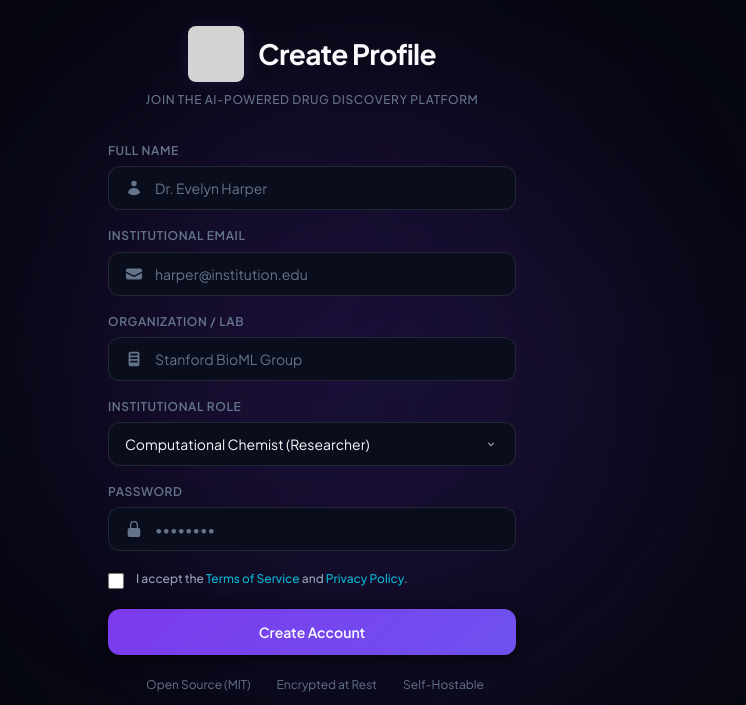
SignupPage › toggles password visibility
This screenshot has width=746, height=705.
In the password field labelled "Password": {"x": 312, "y": 529} [109,508,515,550], type "supersecret123"
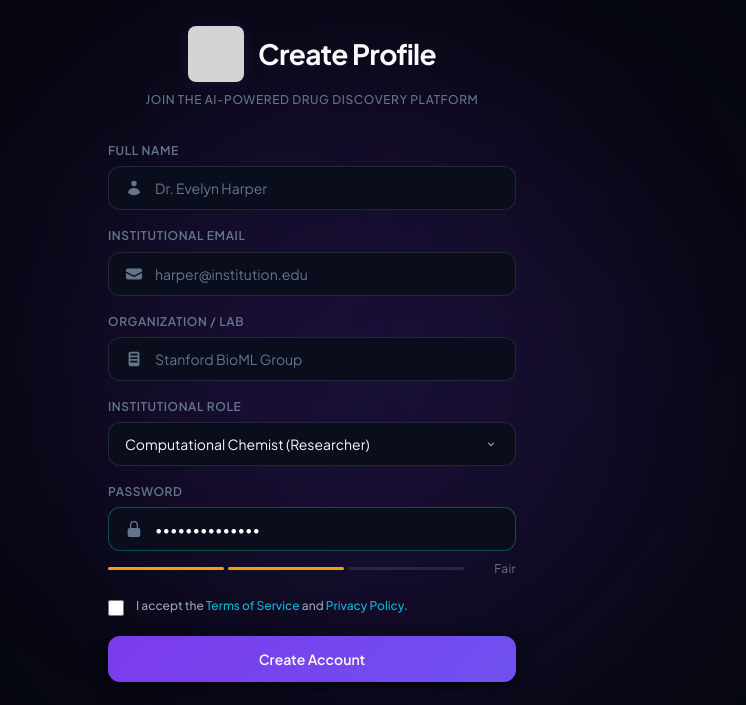
Click the button named "Show password": {"x": 499, "y": 529} [483,508,515,550]
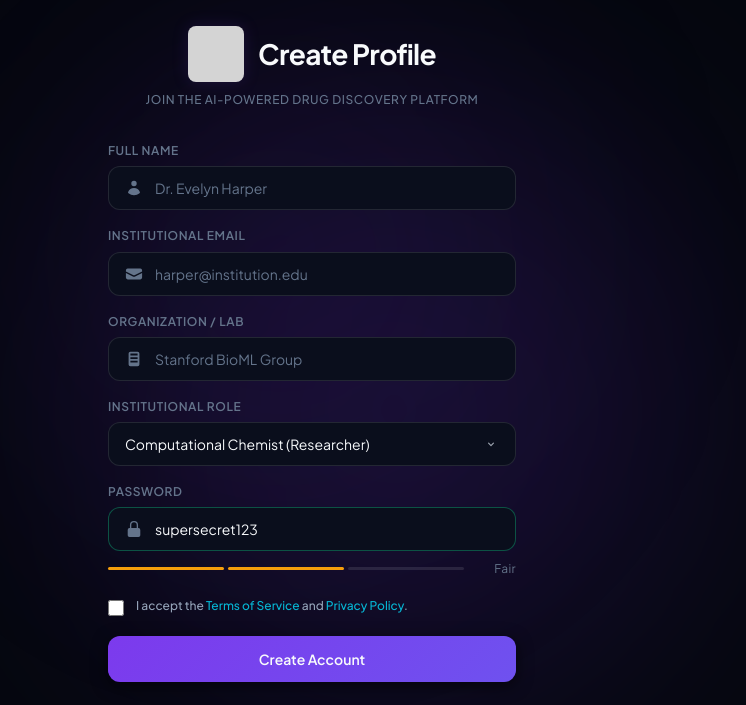
Now the field labelled "Password" shows its text, box [109,508,515,550]
